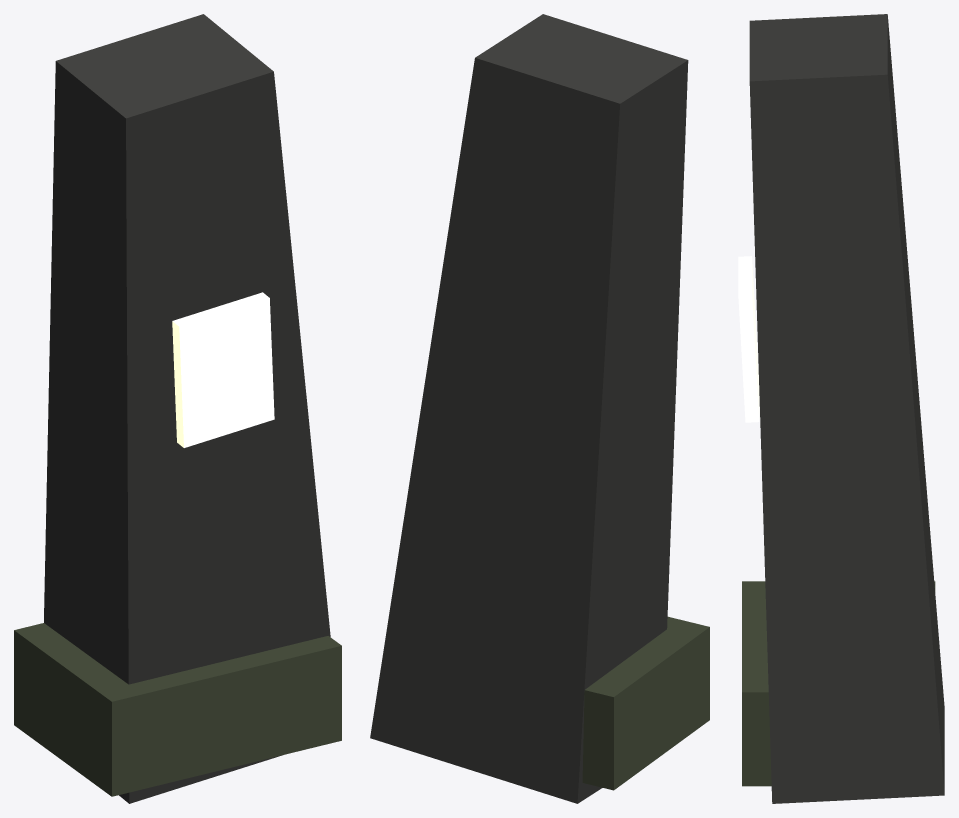
Rendered from standing_stone.glb.
The picture shows the model from 3 angles, left to right: view 1: azimuth 30°, elevation 25°; view 2: azimuth 150°, elevation 25°; view 3: azimuth 270°, elevation 25°; orthographic projection.
Parts seen in each view (by area): view 1: StandingStone; view 2: StandingStone; view 3: StandingStone.
Part boxes in pixels (left/top/right/bottom): StandingStone: left=14, top=14, right=341, bottom=803; StandingStone: left=370, top=14, right=709, bottom=803; StandingStone: left=738, top=14, right=944, bottom=803.
Bounding box in the file's own units: 0.8067 × 2.26 × 0.5977.
